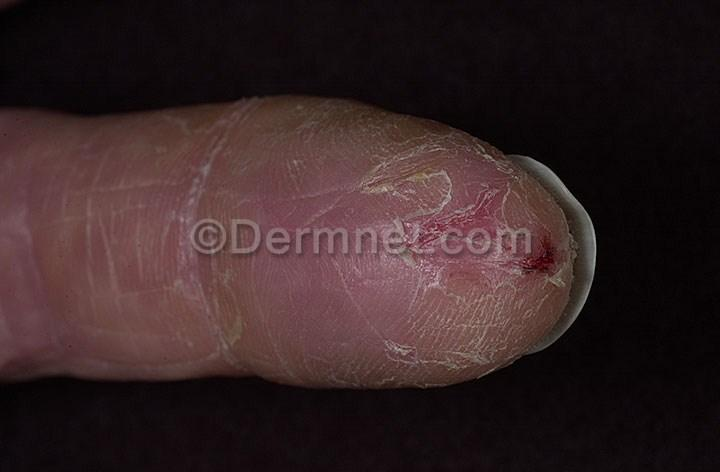Eczema: (0, 212, 200, 361), (197, 267, 389, 370), (205, 104, 355, 222), (371, 128, 531, 235), (58, 102, 207, 207), (398, 269, 521, 384), (526, 207, 575, 307)
